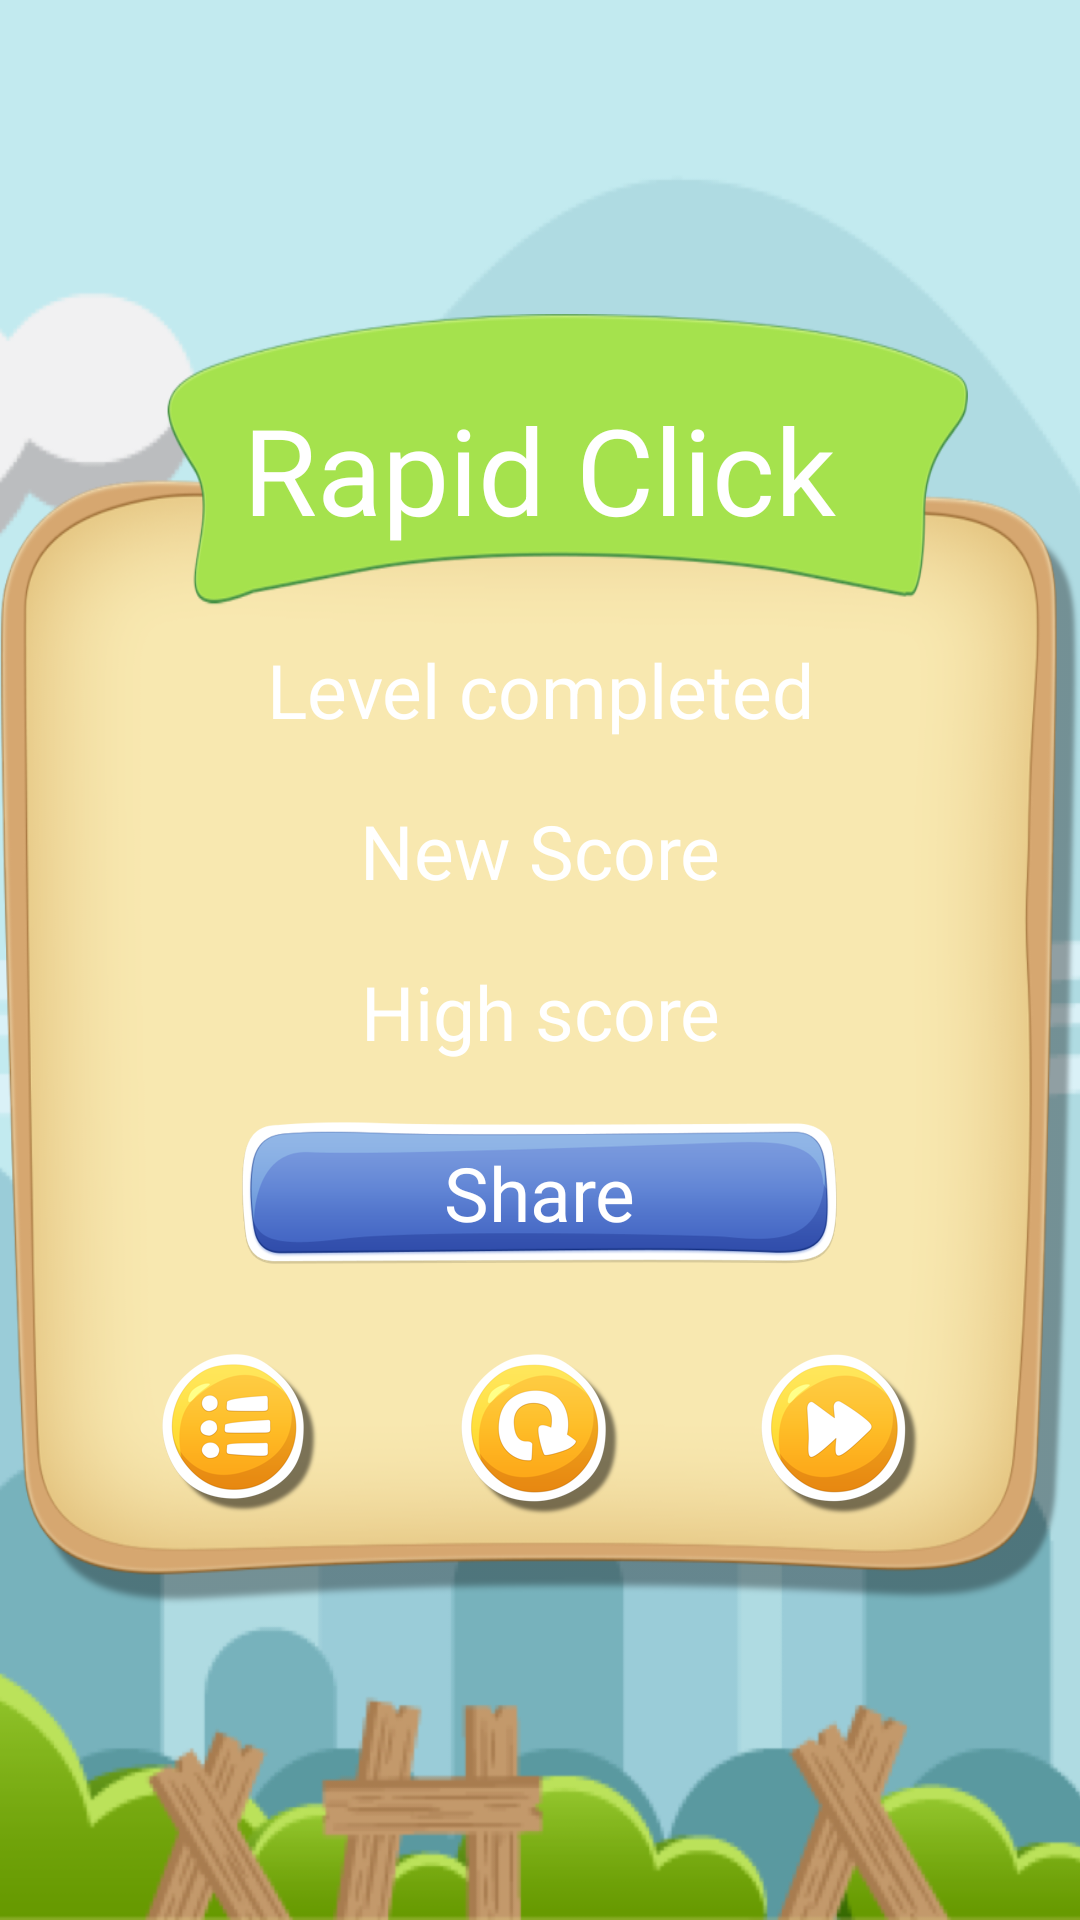

Where to tap for icons on this 1080w x 1920h app screen, as point (x, y):
menu: point (238, 1433)
next: point (839, 1435)
restart: point (539, 1435)
